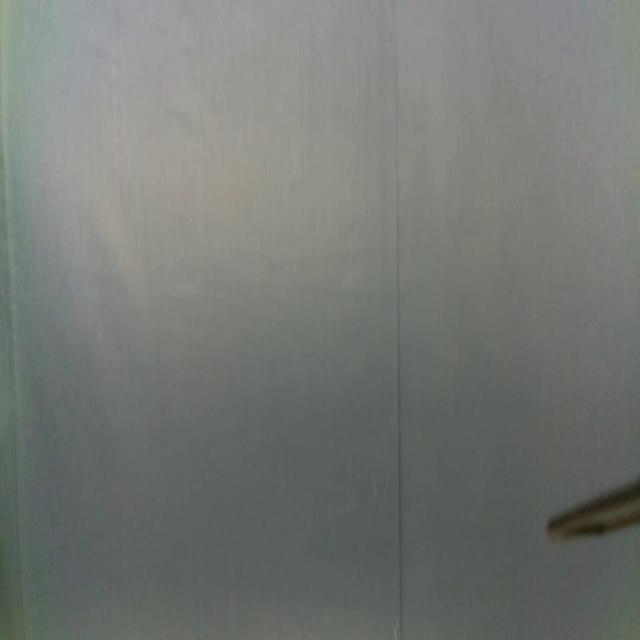crease: (4, 116, 30, 640), (392, 7, 406, 640)
